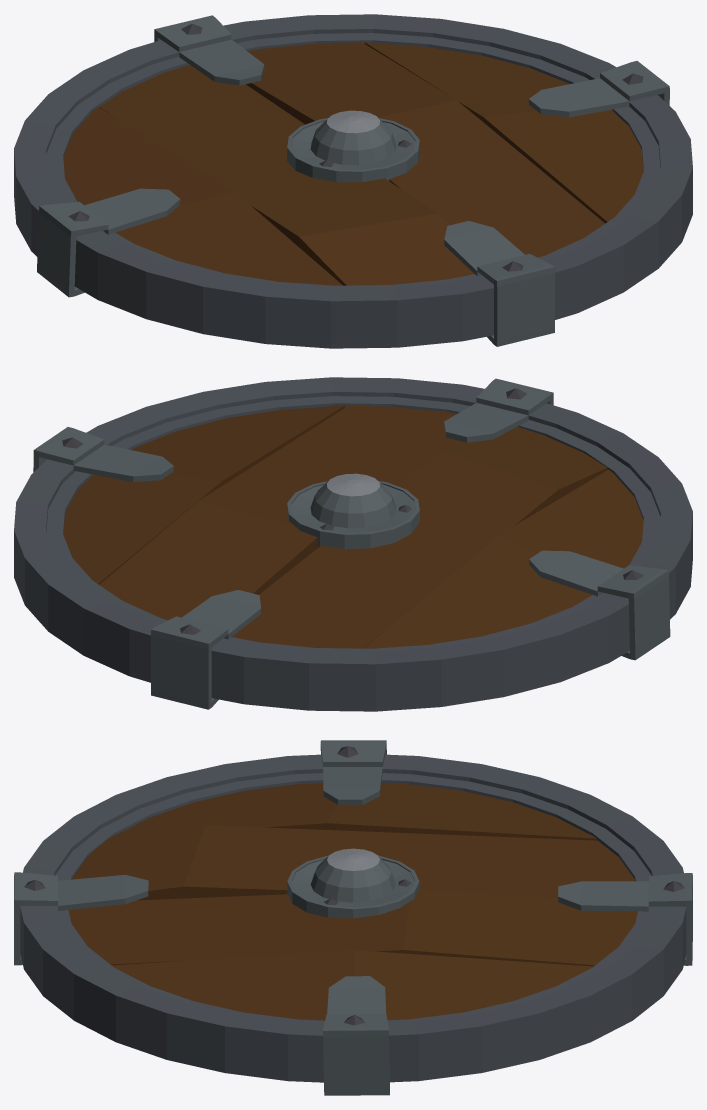
The model's file is kalkan.fbx.
The picture shows the model from 3 angles, top to bottom: view 1: azimuth 30°, elevation 25°; view 2: azimuth 150°, elevation 25°; view 3: azimuth 270°, elevation 25°; orthographic projection.
Visible parts, largest first — view 1: Cylinder, Cylinder.001, Cylinder.006, Cylinder.002, Icosphere.002; view 2: Cylinder, Cylinder.001, Cylinder.006, Cylinder.002, Icosphere.002; view 3: Cylinder, Cylinder.001, Cylinder.006, Cylinder.002, Icosphere.002.
Boxes of the visible parts, x1,y1,x2,y2 form: Cylinder: (63,42,643,285); Cylinder.001: (14,14,692,348); Cylinder.006: (37,15,669,346); Cylinder.002: (287,110,419,182); Icosphere.002: (68,24,643,271); Cylinder: (63,405,643,648); Cylinder.001: (14,377,692,711); Cylinder.006: (33,378,670,709); Cylinder.002: (287,473,419,549); Icosphere.002: (62,388,643,634); Cylinder: (68,783,637,1020); Cylinder.001: (20,754,686,1082); Cylinder.006: (14,740,692,1095); Cylinder.002: (287,848,419,918); Icosphere.002: (24,746,684,1025).
Bounding box in the file's own units: 229 × 41.22 × 226.
